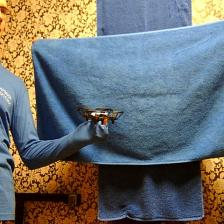drone: (75, 106, 125, 125)
